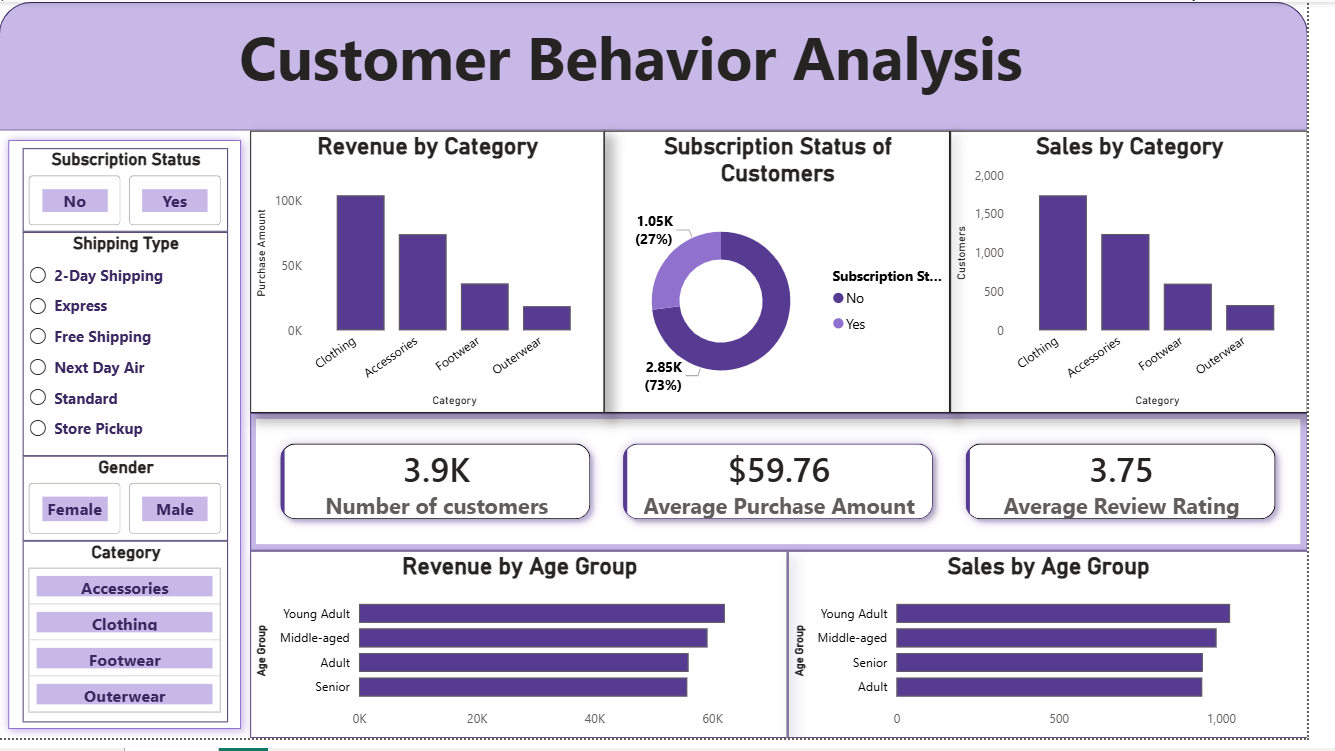

The dashboard page shown, as its layout file describes it:
{"tool":"powerbi","page":{"name":"Page 1","canvas":[1280,720],"ordinal":0},"visuals":[{"type":"cardVisual","fields":{"Data":["customer_behavior mytable.Number of customers","customer_behavior mytable.Average Purchase Amount","customer_behavior mytable.Average Review Rating"]},"box":[245.8,402.3,1034.5,134.5],"z":0},{"type":"shape","box":[0,0,1280.3,126],"z":1000},{"type":"textbox","box":[189.5,8.6,857.2,134.5],"z":2000},{"type":"donutChart","title":"Subscription Status of Customers","fields":{"Category":["customer_behavior mytable.subscription_status"],"Y":["CountNonNull(customer_behavior mytable.customer_id)"]},"box":[591.9,126,338.7,276.4],"z":3000},{"type":"clusteredColumnChart","title":"Revenue by Category","fields":{"Category":["customer_behavior mytable.category"],"Y":["Sum(customer_behavior mytable.purchase_amount)"]},"box":[245.8,126,346.1,276.4],"z":3001},{"type":"clusteredColumnChart","title":"Sales by Category","fields":{"Category":["customer_behavior mytable.category"],"Y":["CountNonNull(customer_behavior mytable.customer_id)"]},"box":[930.6,126,349.7,276.4],"z":3002},{"type":"shape","box":[0,126,245.8,594.3],"z":3003},{"type":"advancedSlicerVisual","title":"Subscription Status","fields":{"Values":["customer_behavior mytable.subscription_status"]},"box":[23.2,143.1,200.5,81.9],"z":3004},{"type":"advancedSlicerVisual","title":"Gender","fields":{"Values":["customer_behavior mytable.gender"]},"box":[23.2,443.9,200.5,83.2],"z":3005},{"type":"advancedSlicerVisual","title":"Category","fields":{"Values":["customer_behavior mytable.category"]},"box":[23.2,527,200.5,177.3],"z":3006},{"type":"listSlicer","title":"Shipping Type","fields":{"Values":["customer_behavior mytable.shipping_type"]},"box":[23.2,225,200.5,218.9],"z":3007},{"type":"clusteredBarChart","title":"Revenue by Age Group","fields":{"Category":["customer_behavior mytable.age_group"],"Y":["Sum(customer_behavior mytable.purchase_amount)"]},"box":[245.8,536.8,525.8,183.4],"z":3008},{"type":"clusteredBarChart","title":"Sales by Age Group","fields":{"Category":["customer_behavior mytable.age_group"],"Y":["CountNonNull(customer_behavior mytable.customer_id)"]},"box":[771.6,536.8,508.7,183.4],"z":3009}]}

Visuals, with their boxes in screenshot pixels (x1, y1, x2, y2), scaled from the page's 1280x720 canvas onto the 1335x751 screenshot:
cardVisual - customer_behavior mytable.Number of customers x customer_behavior mytable.Average Purchase Amount: 256 420 1334 560
shape: 0 0 1334 131
textbox: 198 9 1092 149
"Subscription Status of Customers" donutChart: 617 131 971 420
"Revenue by Category" clusteredColumnChart: 256 131 617 420
"Sales by Category" clusteredColumnChart: 971 131 1334 420
shape: 0 131 256 750
"Subscription Status" advancedSlicerVisual: 24 149 233 235
"Gender" advancedSlicerVisual: 24 463 233 550
"Category" advancedSlicerVisual: 24 550 233 735
"Shipping Type" listSlicer: 24 235 233 463
"Revenue by Age Group" clusteredBarChart: 256 560 805 750
"Sales by Age Group" clusteredBarChart: 805 560 1334 750
